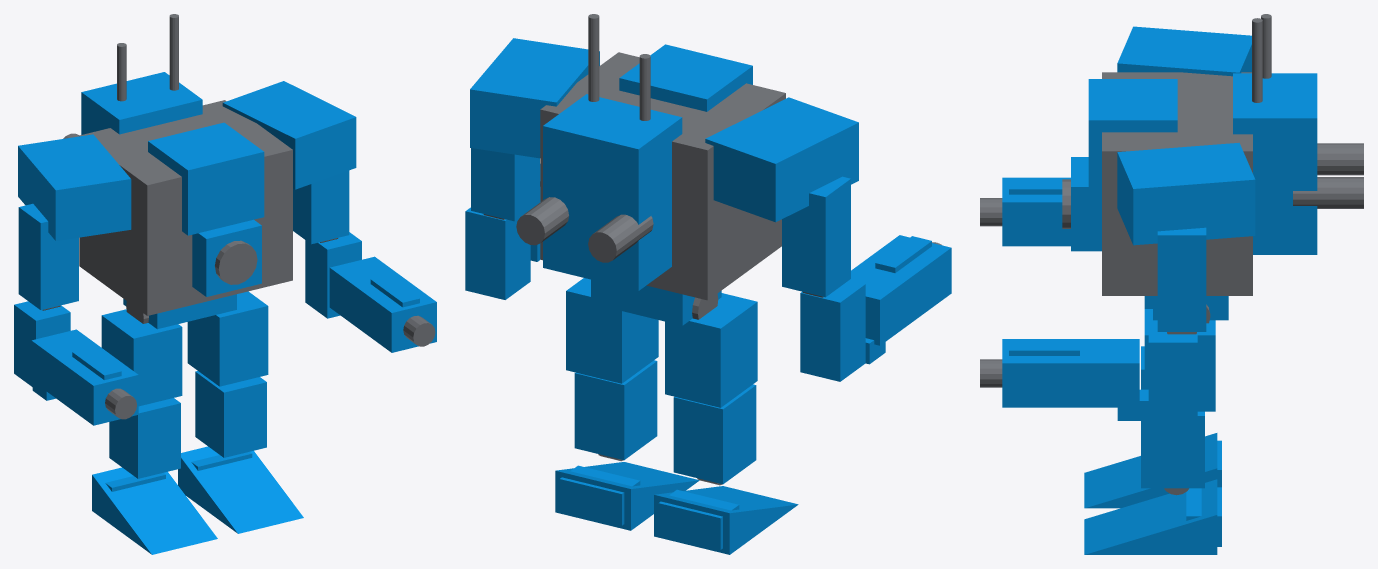
The model's file is PLAYER.glb.
3 renders of one model, left to right at view 1: azimuth 30°, elevation 25°; view 2: azimuth 150°, elevation 25°; view 3: azimuth 270°, elevation 25°, orthographic. The views are drawn at different scales.
Parts seen in each view (by area): view 1: Torso, ShoulderL, Cockpit, ShoulderR, FootL, FootR, ThighR, GunBodyL, GunBodyR, ThighL, ShinR, Backpack (+16 smaller); view 2: Backpack, Torso, ShoulderL, ShoulderR, ThighL, UpperArmL, ThighR, ShinR, ShinL, GunBodyL, ForearmL, Cockpit (+12 smaller); view 3: Torso, Backpack, ShoulderR, GunBodyR, FootR, Cockpit, ShoulderL, UpperArmR, ShinR, ForearmR, GunBodyL, FootL (+13 smaller).
Part boxes in pixels (box(x1,y1,x2,y2)): Torso: box(79, 100, 292, 315); ShoulderL: box(18, 134, 131, 240); Cockpit: box(148, 122, 264, 235); ShoulderR: box(222, 81, 356, 189); FootL: box(92, 467, 217, 554); FootR: box(178, 446, 303, 533); ThighR: box(187, 291, 268, 386); GunBodyL: box(31, 329, 138, 425); GunBodyR: box(329, 256, 436, 352); ThighL: box(101, 309, 182, 406); ShinR: box(195, 371, 266, 457); Backpack: box(81, 72, 202, 134); Backpack: box(543, 94, 682, 290); Torso: box(540, 52, 785, 300); ShoulderL: box(705, 97, 858, 222); ShoulderR: box(470, 38, 599, 158); ThighL: box(665, 293, 757, 407); UpperArmL: box(782, 176, 850, 297); ThighR: box(566, 278, 658, 383); ShinR: box(574, 360, 657, 460); ShinL: box(673, 384, 756, 484); GunBodyL: box(849, 235, 951, 345); ForearmL: box(800, 280, 865, 381); Cockpit: box(619, 44, 752, 111); Torso: box(1102, 72, 1252, 295); Backpack: box(1233, 73, 1317, 254); ShoulderR: box(1117, 142, 1255, 245); GunBodyR: box(1002, 339, 1139, 407); FootR: box(1084, 479, 1217, 554); Cockpit: box(1088, 79, 1177, 192); ShoulderL: box(1117, 26, 1251, 76); UpperArmR: box(1157, 227, 1206, 331); ShinR: box(1141, 411, 1204, 488); ForearmR: box(1148, 324, 1197, 418); GunBodyL: box(1002, 177, 1070, 246); FootL: box(1084, 433, 1217, 508).
Size of the model in its own units: 4.95 by 6.3 by 4.33.
